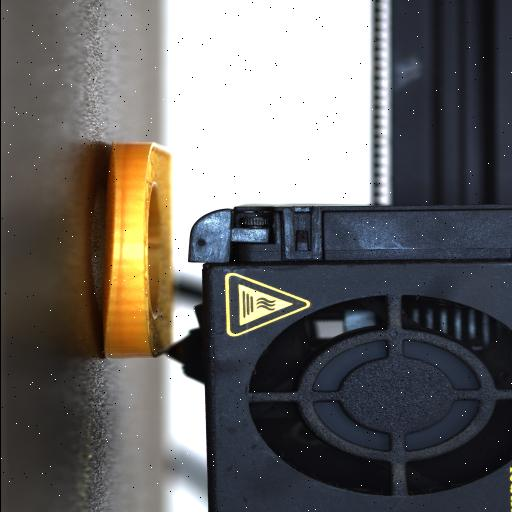warp: (92, 140, 126, 364)
